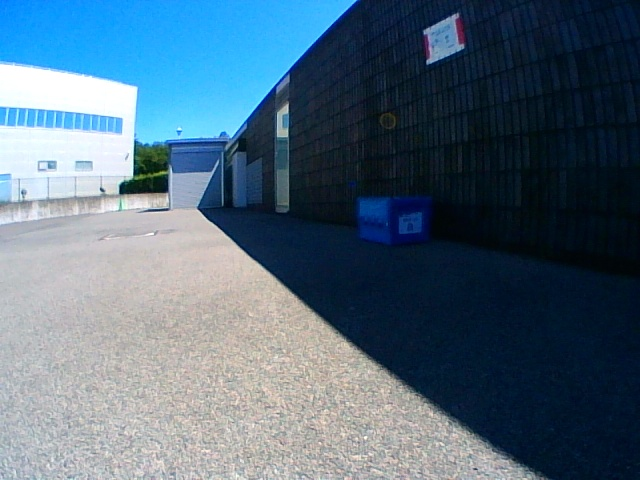blue_box: (358, 196, 430, 244)
tag: (400, 216, 421, 233)
